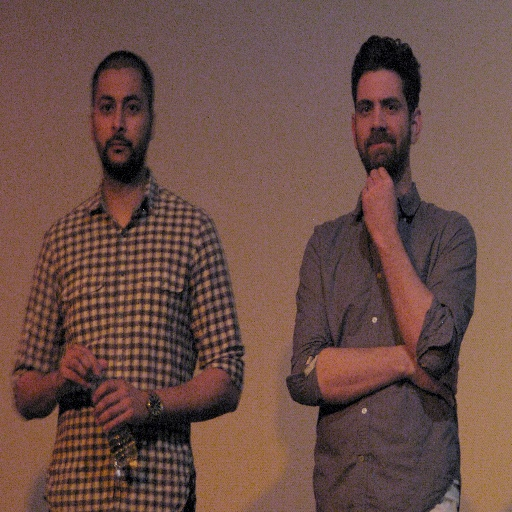hand: (88, 376, 150, 435), (404, 344, 455, 404), (360, 164, 397, 239), (56, 342, 108, 395)
